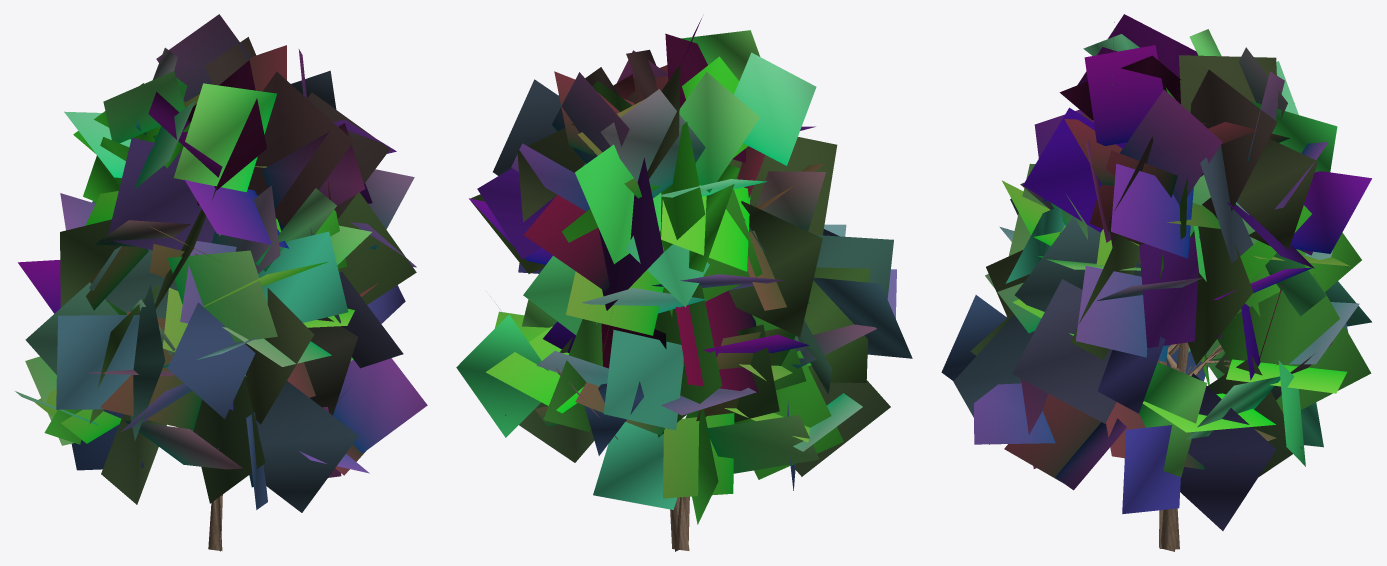
File: SugarMaple_LOD2.fbx
3 renders of one model, left to right at view 1: azimuth 30°, elevation 25°; view 2: azimuth 150°, elevation 25°; view 3: azimuth 270°, elevation 25°, orthographic. The views are drawn at different scales.
Visible parts, largest first — view 1: Foliage, Bark; view 2: Foliage, Bark; view 3: Foliage, Bark.
Boxes of the visible parts, left/top/right/bottom form: Foliage: left=15, top=14, right=427, bottom=512; Bark: left=177, top=427, right=222, bottom=551; Foliage: left=456, top=18, right=912, bottom=524; Bark: left=663, top=291, right=689, bottom=551; Foliage: left=941, top=14, right=1371, bottom=530; Bark: left=1157, top=342, right=1230, bottom=551.
Size of the model in its own units: 12.4 by 15.6 by 11.92.
